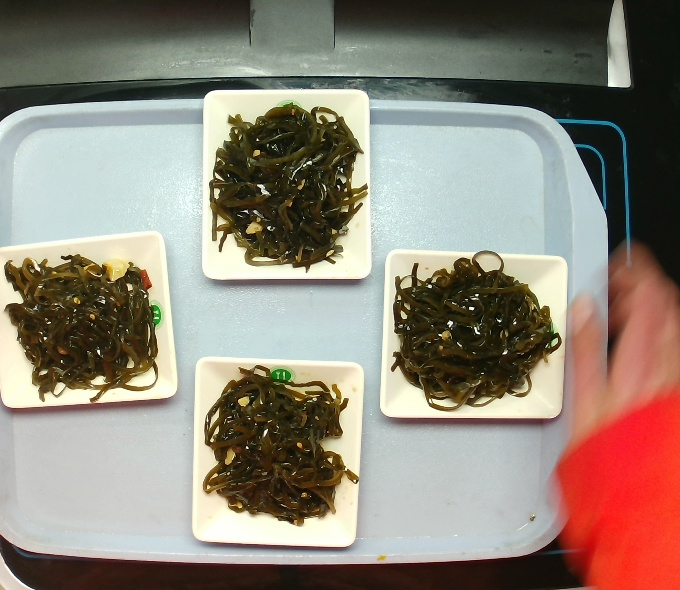wcq-LiangBanHaiDai: (199, 97, 372, 273), (393, 243, 554, 417), (197, 364, 352, 529), (8, 250, 156, 394)
